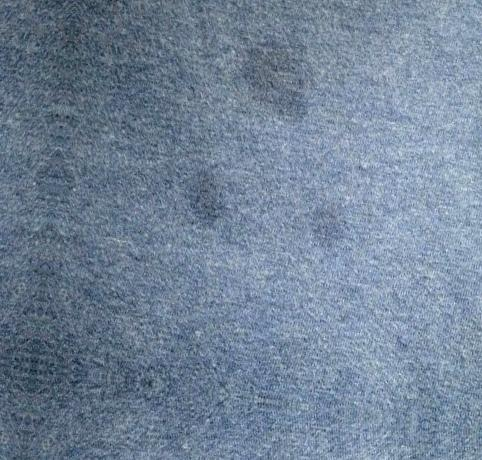stain: (228, 26, 318, 134), (184, 172, 233, 241), (304, 202, 349, 250)
